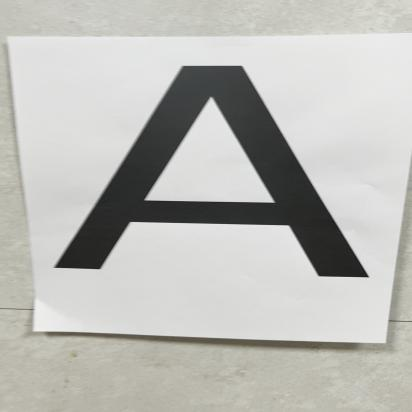seat: (36, 51, 397, 341)
